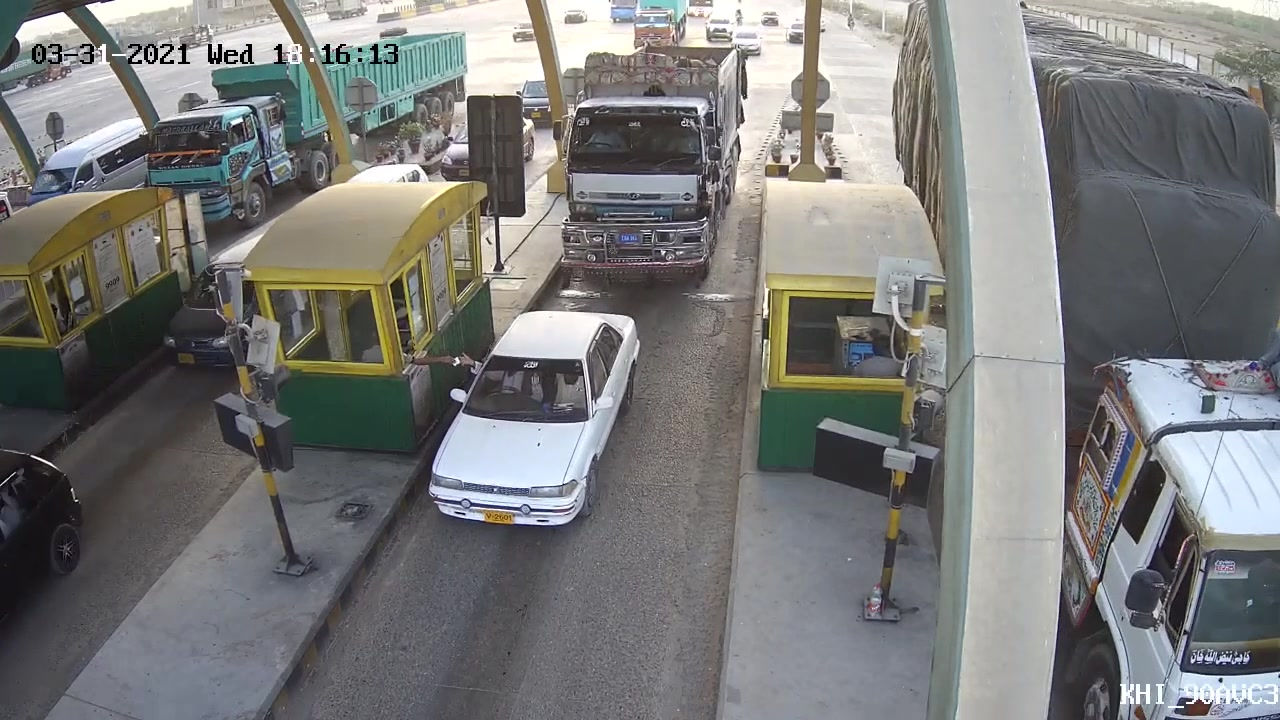F1: (412, 305, 648, 536)
F5: (545, 37, 760, 292)
